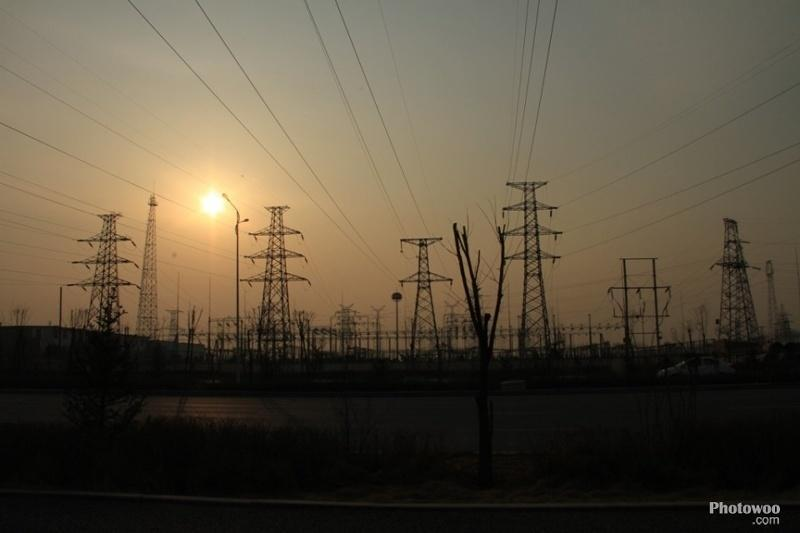power_tower: (494, 178, 567, 354), (63, 208, 145, 335), (240, 205, 314, 343), (394, 235, 454, 358), (709, 216, 761, 337), (330, 300, 360, 346), (764, 258, 780, 336)
